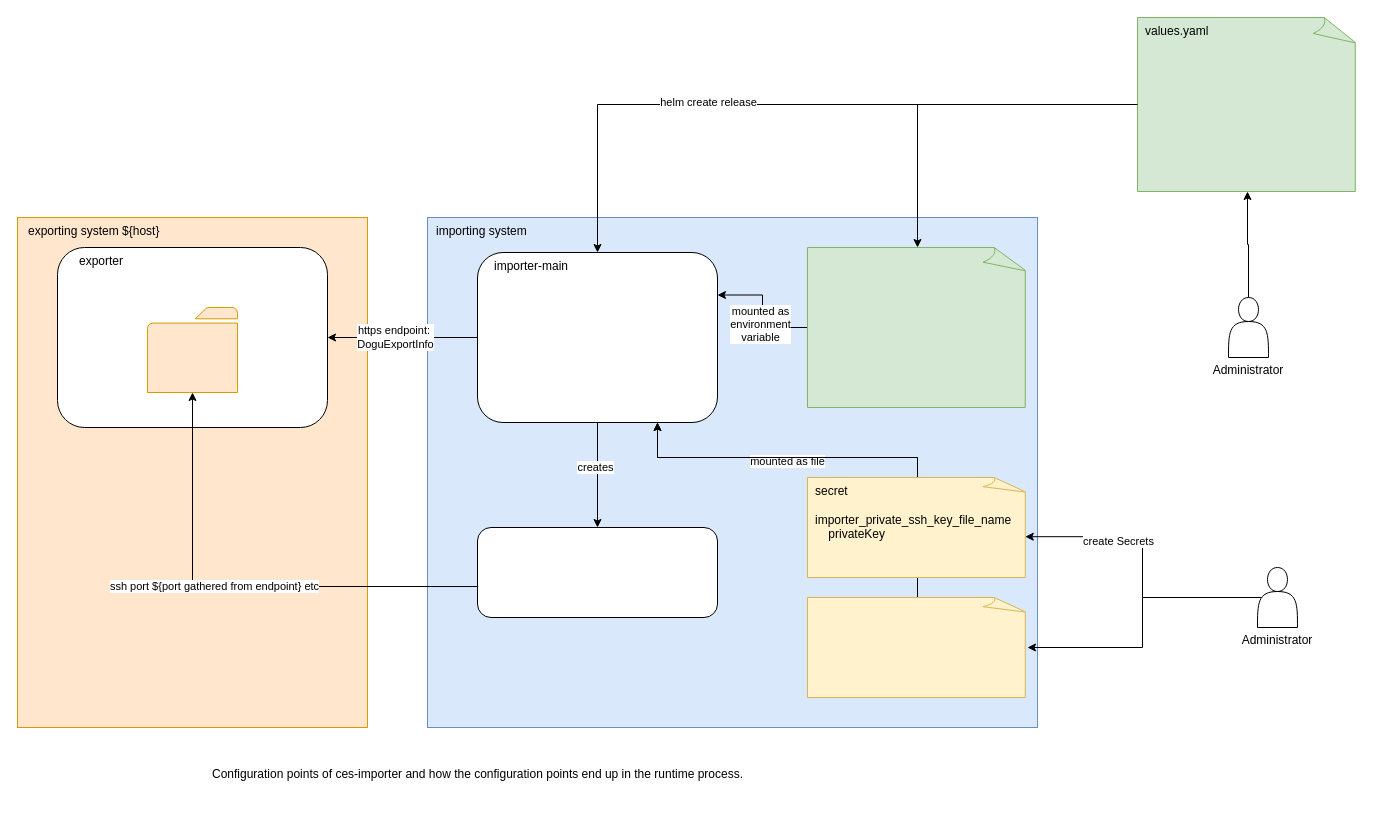
This 1375x815 diagram has some shape labels left out. Each missing label, with the centre of its shape:
/data: point 192,349
configmap log_level exporter_host exporter_source importer_private_ssh_key_path: point 917,327
importer-job-9skj238s: point 597,572
secret exporter_api: apiKey: point 917,647
